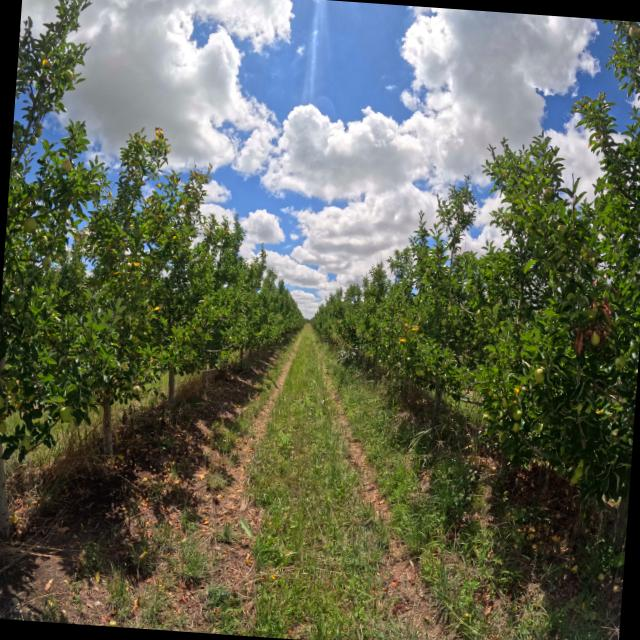-FireBlight-: (574, 320, 610, 355), (599, 297, 614, 326), (586, 298, 596, 309), (610, 286, 618, 299), (591, 278, 598, 287)
